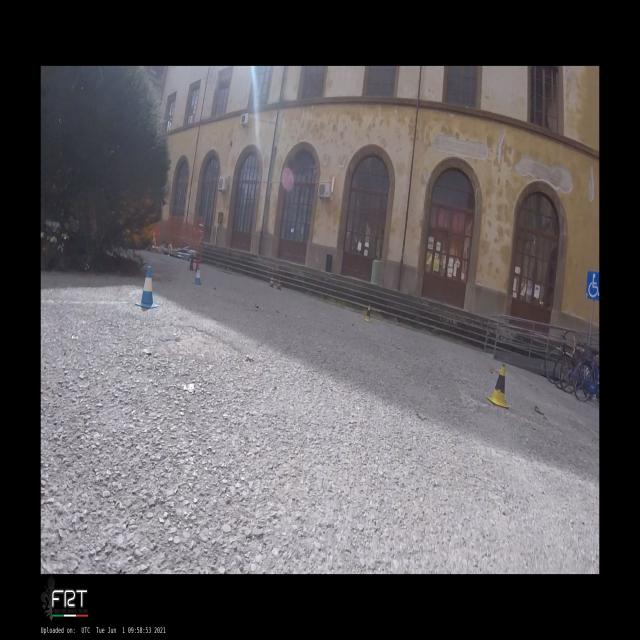blue_cone: (136, 266, 158, 308), (193, 266, 202, 284)
large_orange_cone: (276, 278, 282, 290), (269, 276, 274, 287)
yellow_cone: (487, 364, 509, 408), (364, 305, 372, 323)
